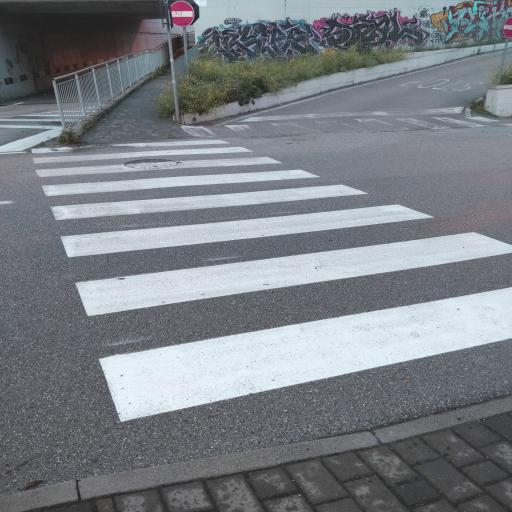crosswalk: (39, 201, 512, 321), (24, 144, 286, 180)
